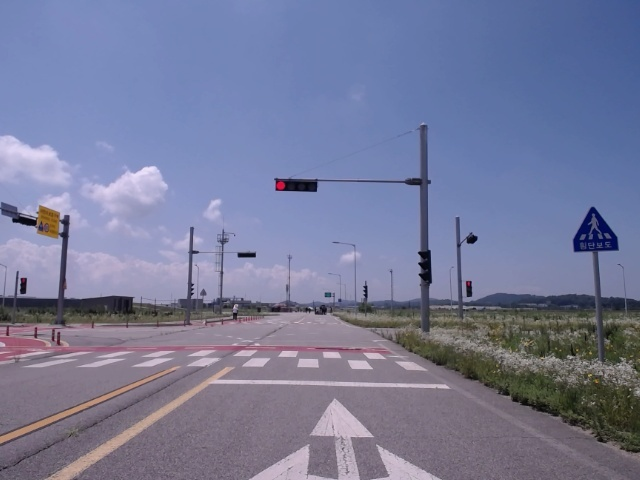red_4: (275, 180, 317, 192)
